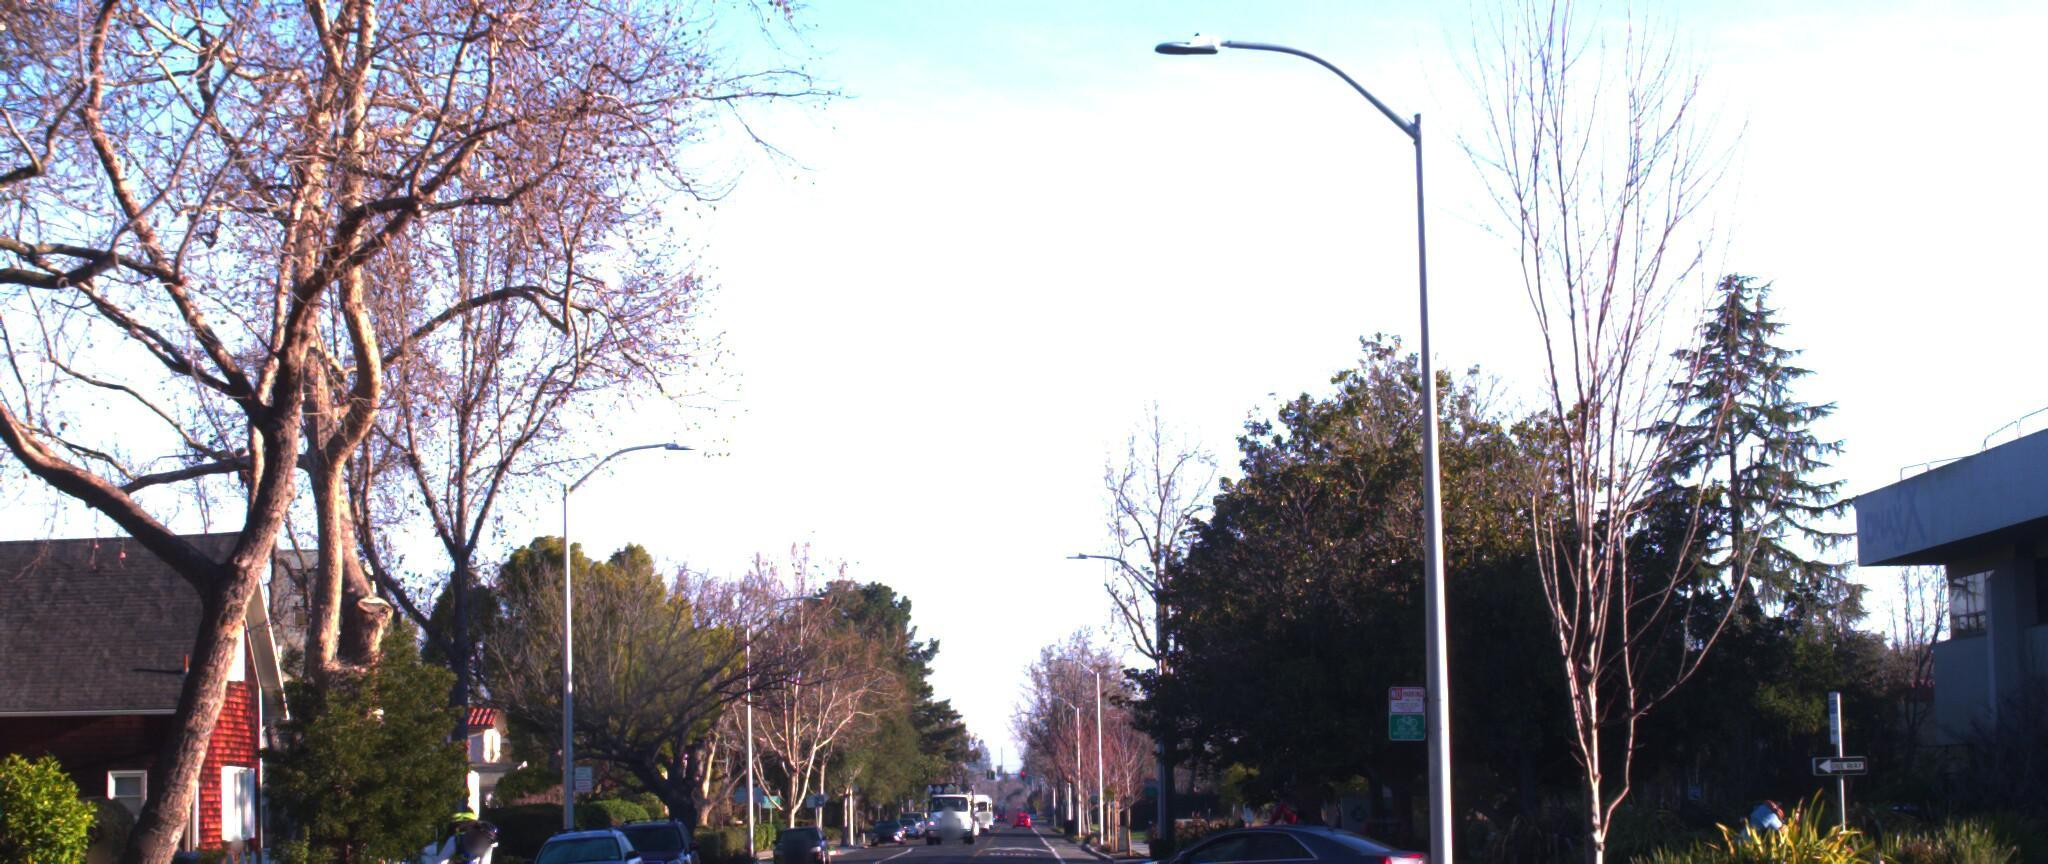bicycle: (404, 777, 519, 864)
car: (1048, 797, 1445, 864), (512, 796, 654, 864), (584, 791, 709, 864)
